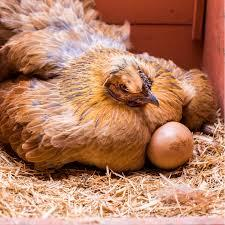egg: (148, 121, 196, 175)
